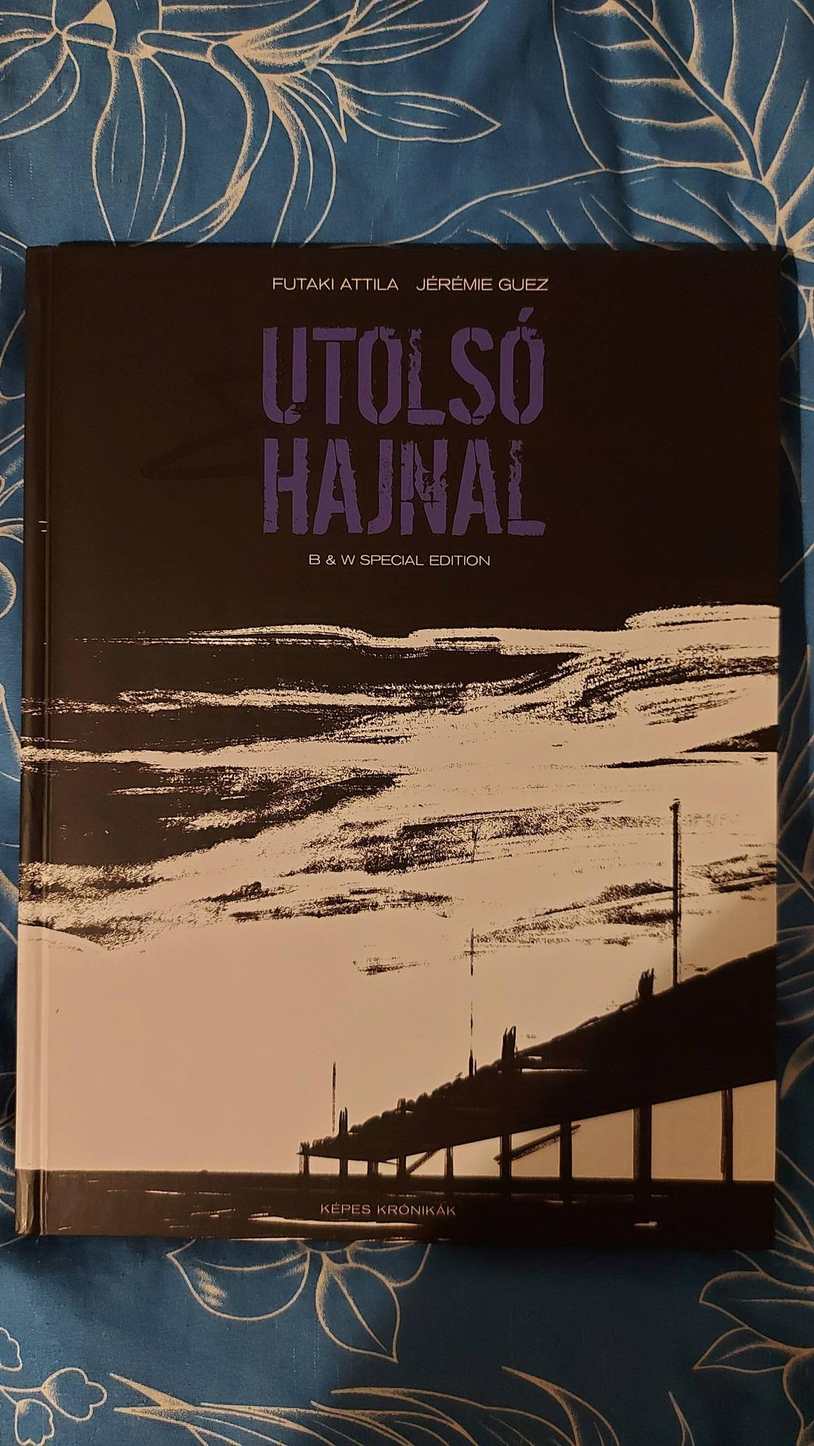comic: (15, 241, 785, 1247)
